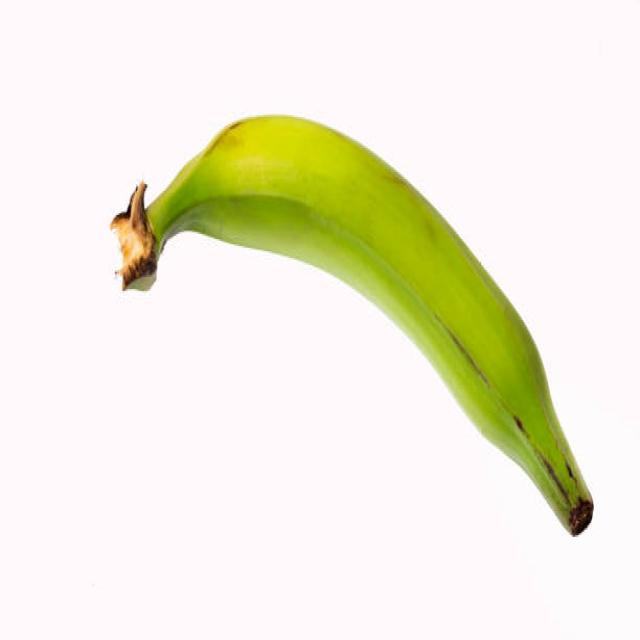banana: (113, 109, 595, 533)
